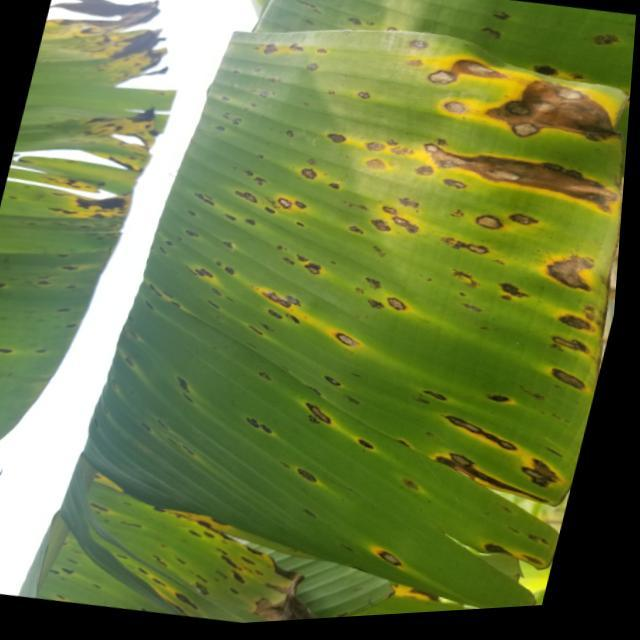Early_rust: (122, 13, 608, 608), (0, 0, 169, 390)
